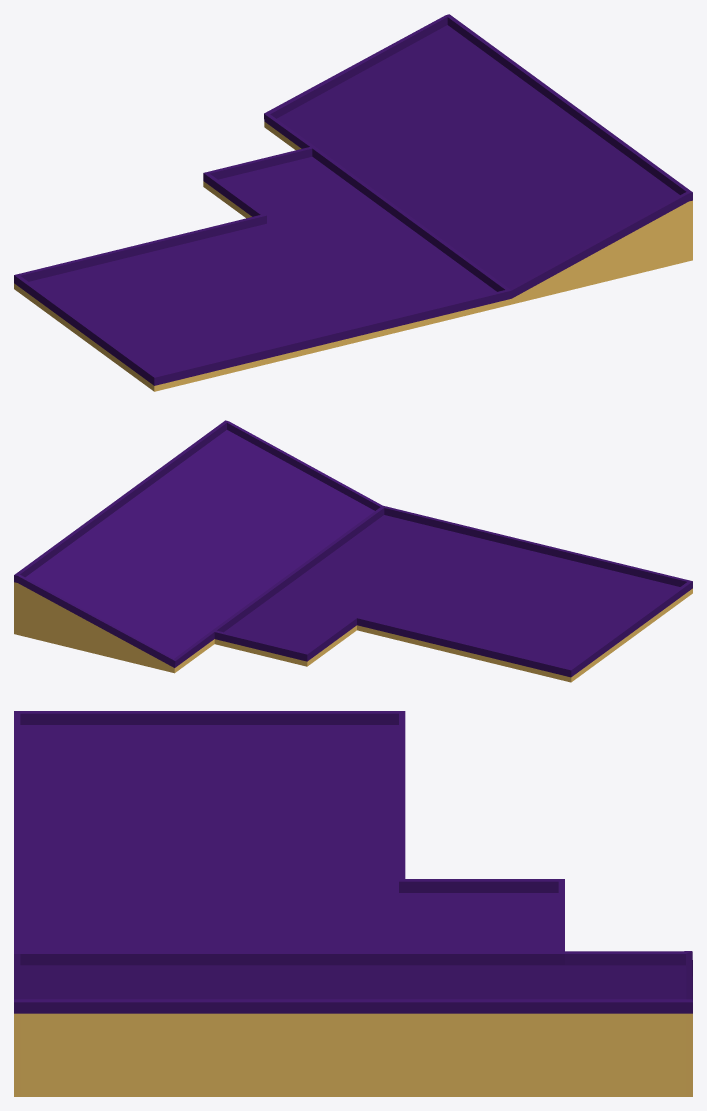
File: Techo_Player2.fbx
3 renders of one model, top to bottom at view 1: azimuth 30°, elevation 25°; view 2: azimuth 150°, elevation 25°; view 3: azimuth 270°, elevation 25°, orthographic. The views are drawn at different scales.
Parts seen in each view (by area): view 1: TechoAmarillo; view 2: TechoAmarillo; view 3: TechoAmarillo.
Boxes of the visible parts, x1,y1,x2,y2 form: TechoAmarillo: [14, 14, 692, 391]; TechoAmarillo: [14, 420, 692, 682]; TechoAmarillo: [14, 711, 692, 1096].
Bounding box in the file's own units: 1497 × 180 × 1173.
